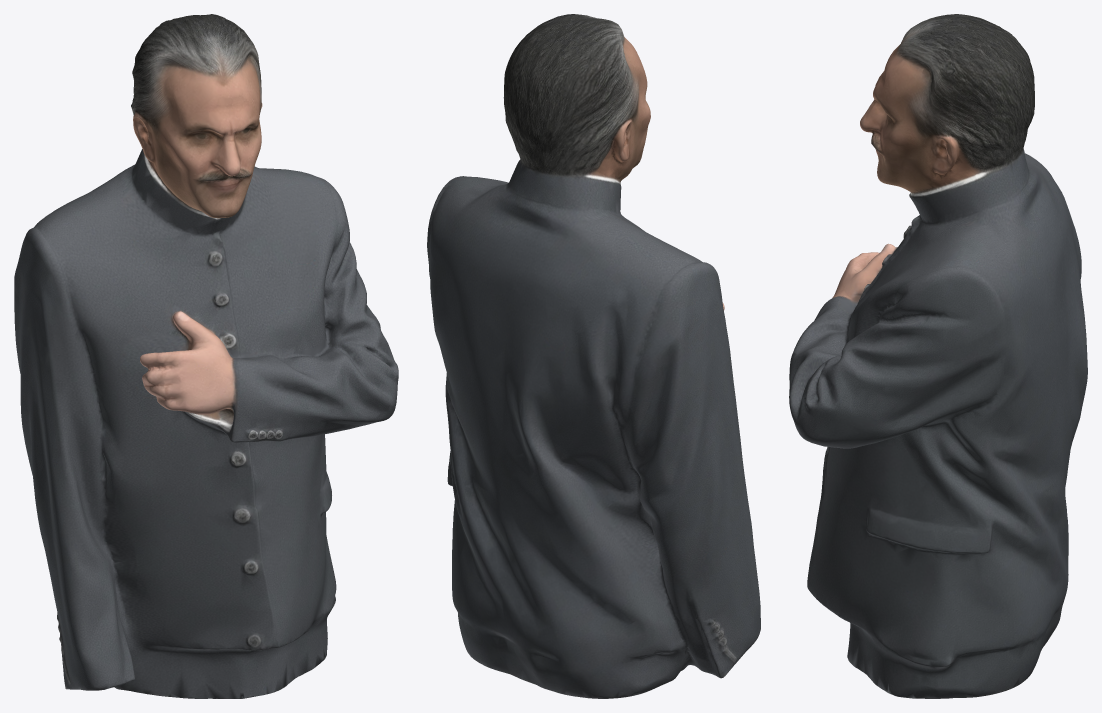
Rendered from Muhammad Zia-ul-Haq.glb.
3 renders of one model, left to right at view 1: azimuth 30°, elevation 25°; view 2: azimuth 150°, elevation 25°; view 3: azimuth 270°, elevation 25°, orthographic.
Bounding box in the file's own units: 0.9218 × 1.9 × 0.816.
Materials: 1 (1 with a texture image).
